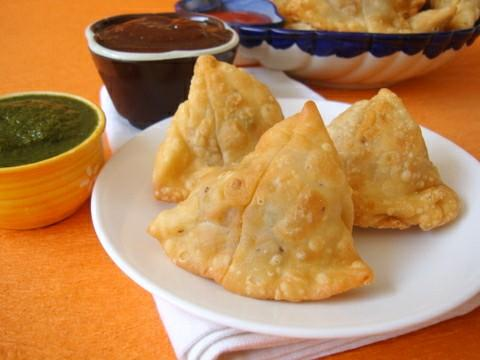Samosa: (148, 100, 373, 304), (148, 53, 285, 203), (325, 87, 459, 233)
